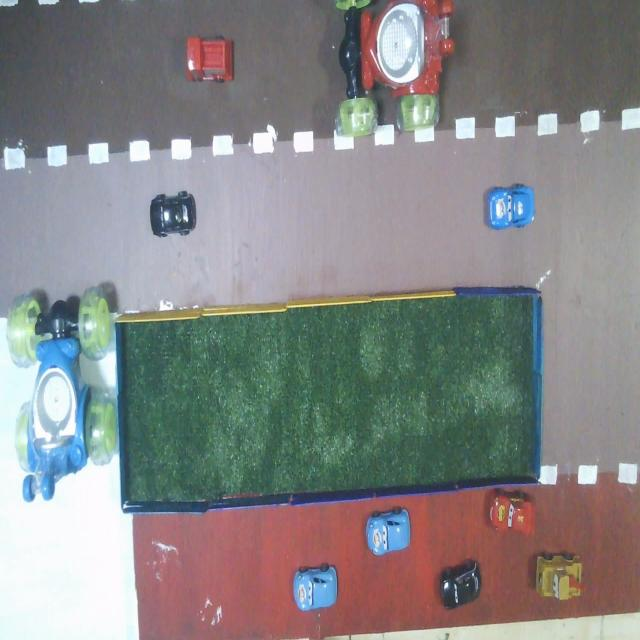driver car f: (7, 286, 117, 501)
small cars: (366, 508, 411, 556), (440, 559, 482, 609), (537, 554, 582, 600), (150, 191, 196, 236), (293, 564, 338, 610), (490, 489, 535, 534), (187, 38, 233, 82), (488, 185, 534, 229)
